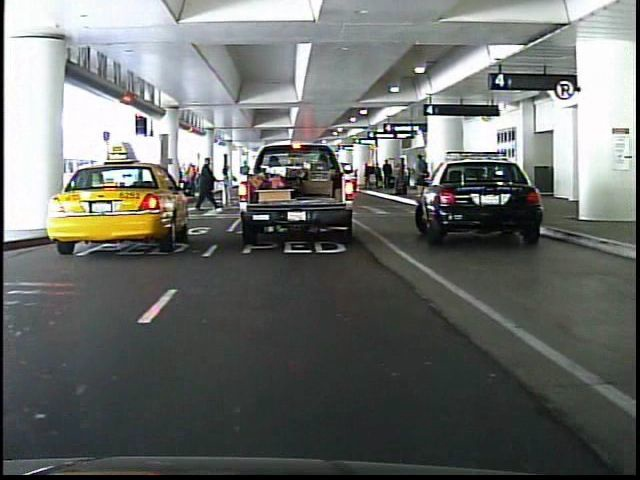person: (191, 154, 219, 215), (262, 146, 285, 202)
